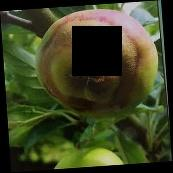rotten apple: (34, 8, 161, 119)
